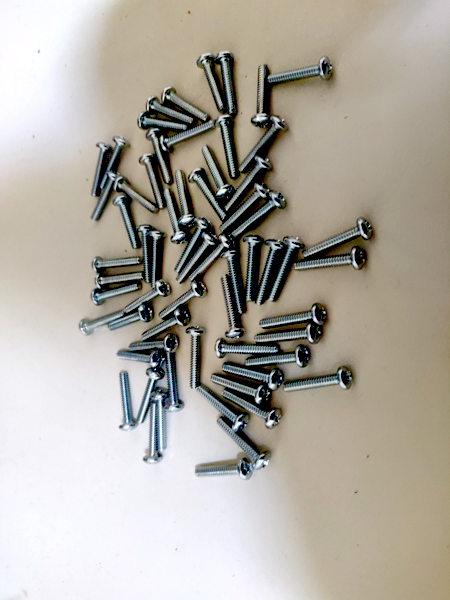longscrew: (301, 215, 376, 255), (215, 415, 269, 470), (281, 367, 356, 403), (223, 156, 271, 208), (240, 117, 288, 168), (233, 193, 286, 237), (218, 185, 271, 229), (270, 236, 303, 304), (172, 216, 208, 273), (193, 50, 226, 112), (198, 385, 246, 427), (222, 392, 279, 427), (190, 239, 231, 283), (267, 57, 337, 82), (79, 141, 109, 199), (214, 112, 240, 178), (100, 133, 130, 190), (255, 240, 282, 303), (178, 235, 214, 282), (75, 305, 126, 338), (160, 281, 205, 318), (191, 171, 224, 221), (159, 123, 214, 153), (120, 281, 170, 314), (114, 177, 158, 212), (134, 370, 163, 423), (221, 249, 246, 310), (210, 375, 268, 401), (90, 171, 119, 223), (261, 308, 332, 329), (218, 276, 242, 337), (217, 50, 240, 113), (196, 458, 258, 481), (296, 250, 367, 270), (247, 346, 314, 367), (251, 63, 273, 126), (143, 96, 194, 123), (239, 235, 259, 301), (141, 156, 165, 211), (142, 312, 189, 340), (224, 366, 285, 387), (109, 305, 153, 334), (187, 321, 206, 388), (205, 147, 229, 200), (90, 281, 140, 306), (93, 268, 143, 293), (90, 253, 140, 278), (146, 130, 169, 184), (215, 340, 277, 360), (114, 194, 135, 249), (165, 354, 182, 420), (164, 90, 208, 115), (164, 183, 182, 244), (175, 165, 193, 225), (118, 369, 136, 428), (142, 403, 158, 468), (129, 333, 180, 353), (255, 327, 324, 341), (150, 229, 166, 288), (156, 387, 170, 451), (139, 224, 154, 282), (138, 113, 189, 129), (116, 349, 163, 366)
